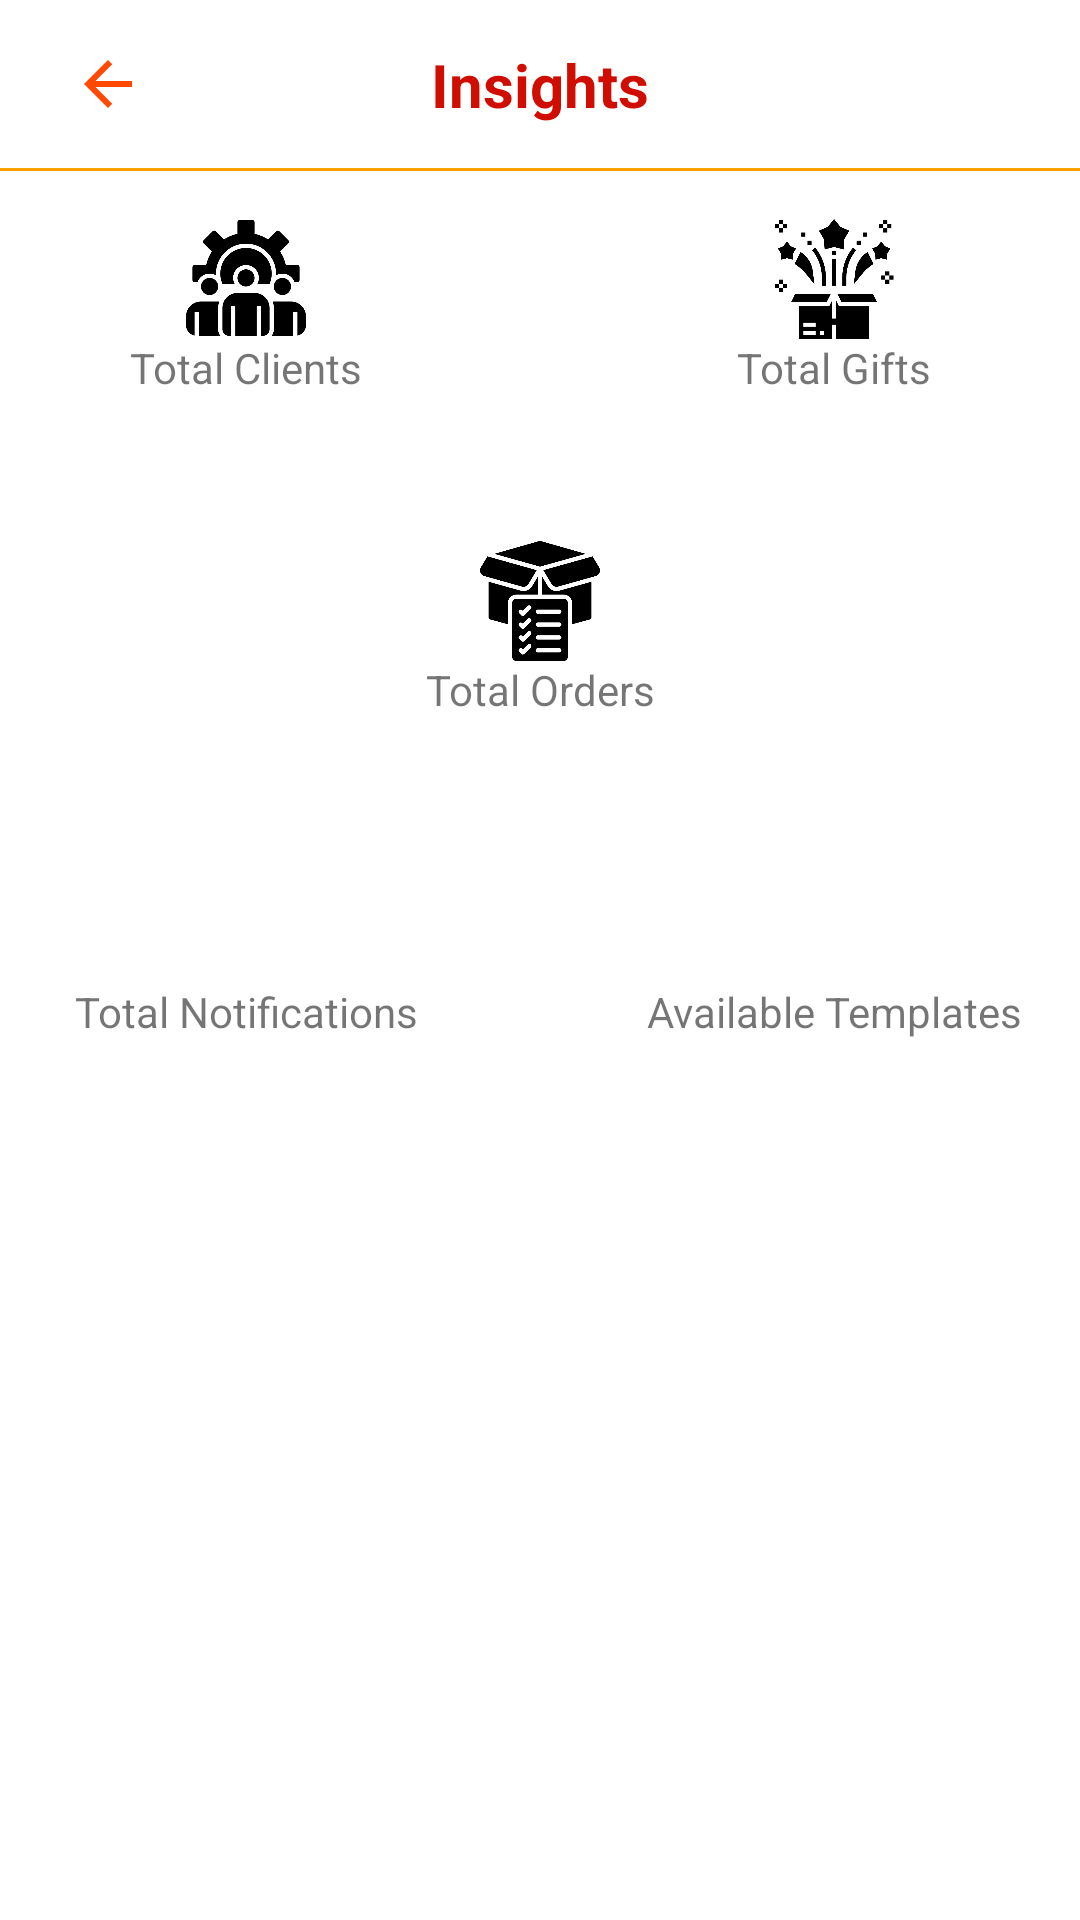

Icons on this 1080×1920 Android screen, each with its box as bbox=(x1, y1, x2, y2):
arrow back: bbox=(84, 60, 132, 108)
users: bbox=(186, 220, 306, 336)
